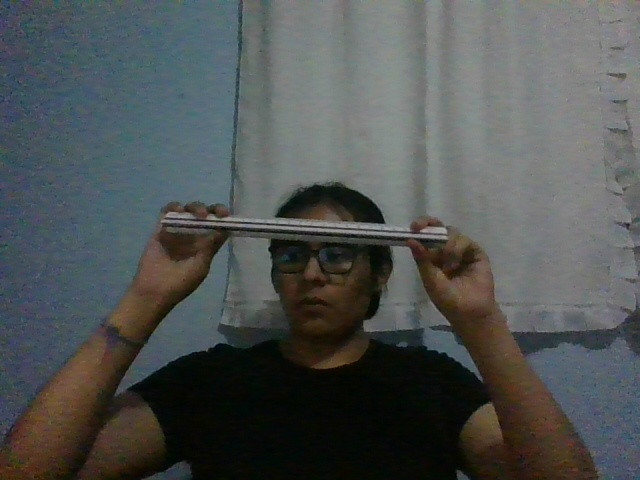regla: (161, 211, 449, 247)
